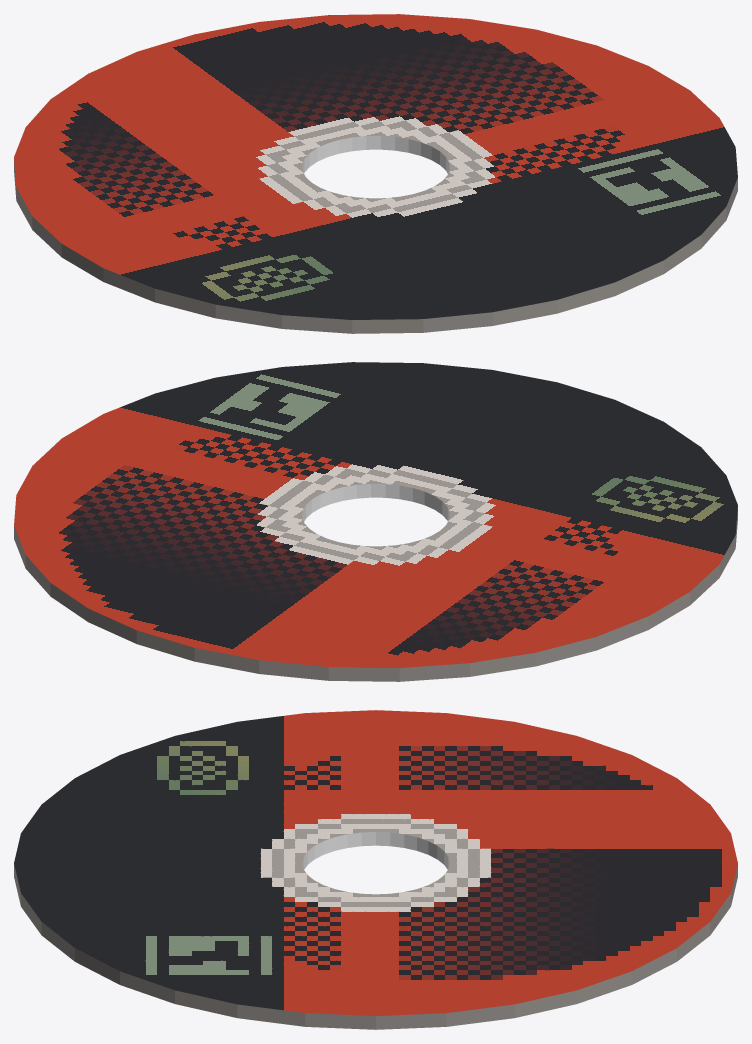
Rendered from ssbm.glb.
3 renders of one model, top to bottom at view 1: azimuth 30°, elevation 25°; view 2: azimuth 150°, elevation 25°; view 3: azimuth 270°, elevation 25°, orthographic.
Visible parts, largest first — view 1: Circle; view 2: Circle; view 3: Circle.
Boxes of the visible parts, box(x1,y1,x2,y2) form: Circle: box(14, 14, 737, 333); Circle: box(14, 362, 737, 681); Circle: box(14, 710, 737, 1029).
Bounding box in the file's own units: 8 × 0.1677 × 8.
1 material, 1 textured.
